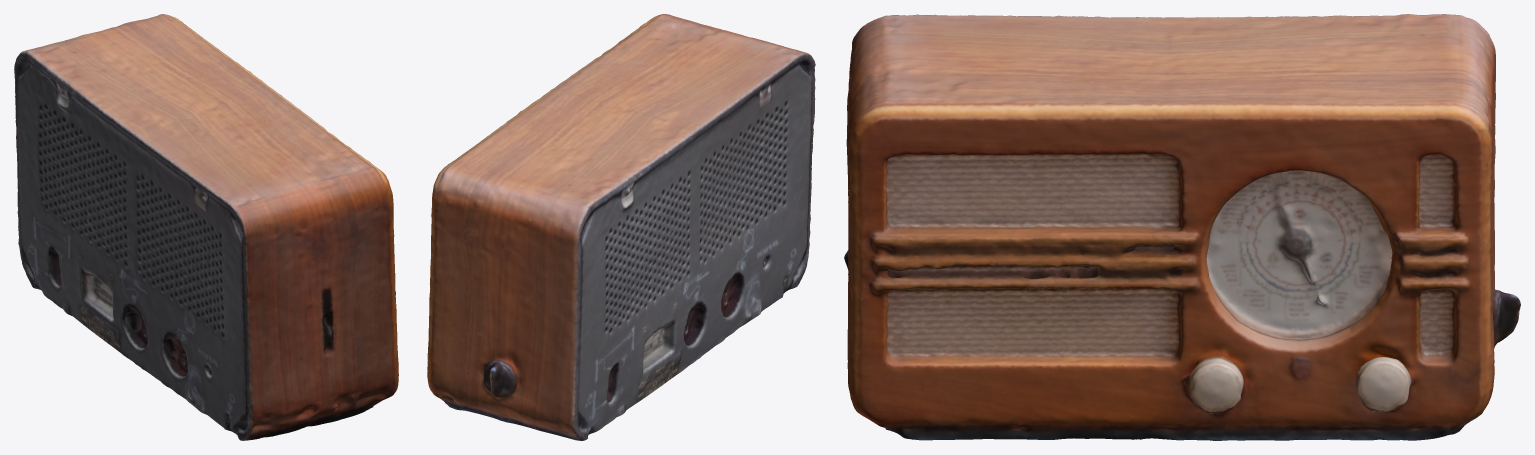
3 views of the same model, side by side, from view 1: azimuth 30°, elevation 25°; view 2: azimuth 150°, elevation 25°; view 3: azimuth 270°, elevation 25° (orthographic). The views are drawn at different scales.
Visible parts, largest first — view 1: Object_3, Object_2, Object_4; view 2: Object_2, Object_3, Object_4; view 3: Object_2, Object_3, Object_4.
Boxes of the visible parts, box(x1,y1,x2,y2) form: Object_3: box(15, 40, 398, 440); Object_2: box(14, 14, 309, 440); Object_4: box(186, 92, 392, 253); Object_2: box(427, 66, 713, 440); Object_3: box(531, 14, 815, 437); Object_4: box(555, 14, 735, 113); Object_2: box(946, 14, 1520, 440); Object_3: box(844, 14, 1495, 440); Object_4: box(850, 45, 1329, 430).
Size of the model in its own units: 1.32 by 1.71 by 3.18.
Materials: 1 (1 with a texture image).
